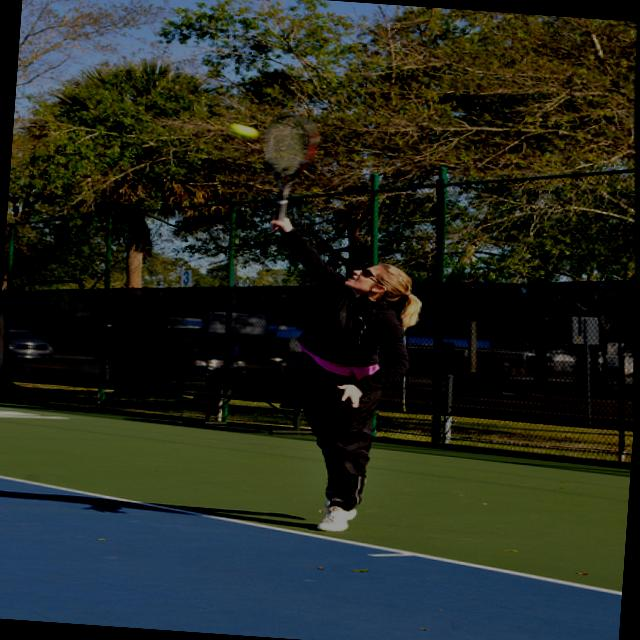Vehicle: (176, 339, 226, 380), (6, 326, 56, 361), (253, 348, 310, 374)
